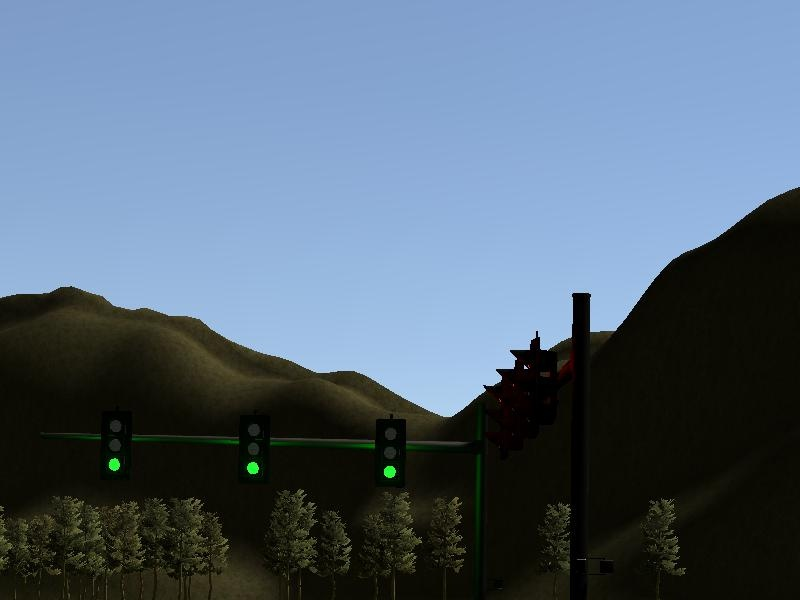Green: (98, 407, 133, 481), (237, 412, 272, 486), (374, 416, 407, 490)
